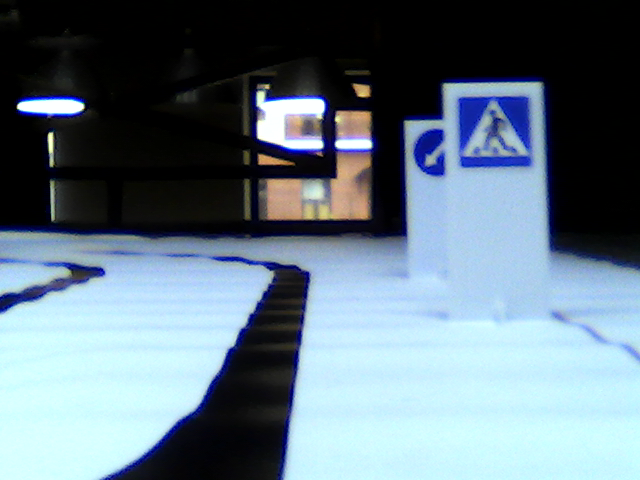pesh: (459, 97, 532, 167)
prep: (415, 126, 448, 179)
